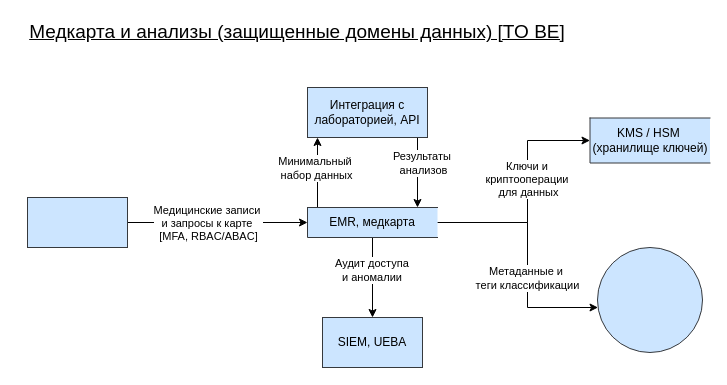
Image size: 727x385. Some labels were removed from this diagram. Each missing label, with the centre of its shape:
Медицинский специалист: point 77,222
Тегирование и каталог данных (DLP, Data Catalog): point 649,299
